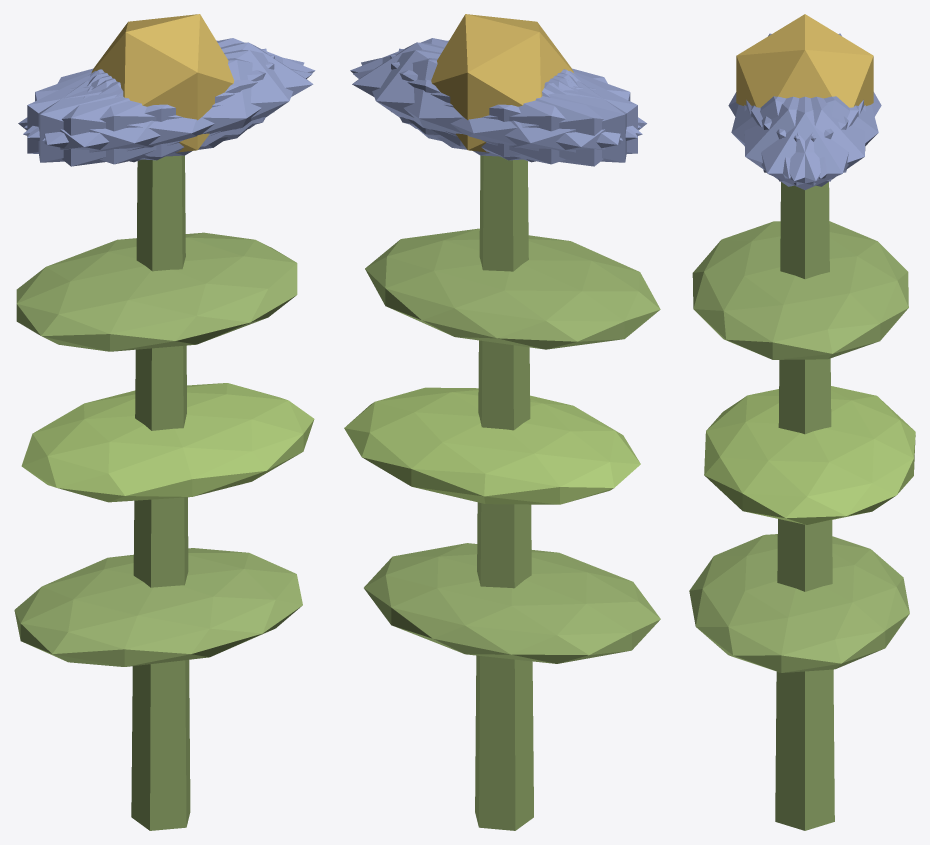
File: hymenocallis-littoralis.glb
The picture shows the model from 3 angles, left to right: view 1: azimuth 30°, elevation 25°; view 2: azimuth 150°, elevation 25°; view 3: azimuth 270°, elevation 25°; orthographic projection.
Parts seen in each view (by area): view 1: leaf2, stem, leaf0, leaf1, center, petal1, petal6, petal2, petal5, petal7, petal0, petal4 (+2 smaller); view 2: stem, leaf2, leaf1, leaf0, center, petal8, petal3, petal7, petal4, petal2, petal0, petal5 (+2 smaller); view 3: leaf2, leaf1, stem, leaf0, center, petal0, petal4, petal5, petal1, petal8.
Boxes of the visible parts, bbox=[...] form: leaf2: bbox=[16, 232, 297, 351]; stem: bbox=[131, 155, 190, 830]; leaf0: bbox=[14, 548, 302, 666]; leaf1: bbox=[21, 383, 314, 502]; center: bbox=[91, 14, 234, 152]; petal1: bbox=[23, 58, 312, 164]; petal6: bbox=[18, 71, 227, 166]; petal2: bbox=[38, 48, 266, 162]; petal5: bbox=[42, 49, 304, 156]; petal7: bbox=[27, 55, 274, 160]; petal0: bbox=[91, 42, 313, 146]; petal4: bbox=[24, 38, 315, 137]; stem: bbox=[475, 155, 533, 830]; leaf2: bbox=[365, 228, 660, 349]; leaf1: bbox=[344, 387, 640, 504]; leaf0: bbox=[364, 543, 660, 663]; center: bbox=[431, 14, 573, 152]; petal8: bbox=[353, 58, 642, 164]; petal3: bbox=[437, 71, 646, 166]; petal7: bbox=[398, 48, 626, 162]; petal4: bbox=[361, 49, 622, 157]; petal2: bbox=[390, 55, 637, 160]; petal0: bbox=[352, 42, 574, 146]; petal5: bbox=[350, 38, 641, 137]; leaf2: bbox=[692, 221, 908, 359]; leaf1: bbox=[704, 386, 915, 524]; stem: bbox=[775, 182, 834, 830]; leaf0: bbox=[689, 534, 909, 672]; center: bbox=[736, 14, 873, 107]; petal0: bbox=[746, 96, 863, 189]; petal4: bbox=[751, 96, 865, 186]; petal5: bbox=[744, 96, 858, 186]; petal1: bbox=[731, 96, 848, 178]; petal8: bbox=[761, 96, 878, 178].
Bounding box in the file's own units: 0.1462 × 0.3871 × 0.1011.
